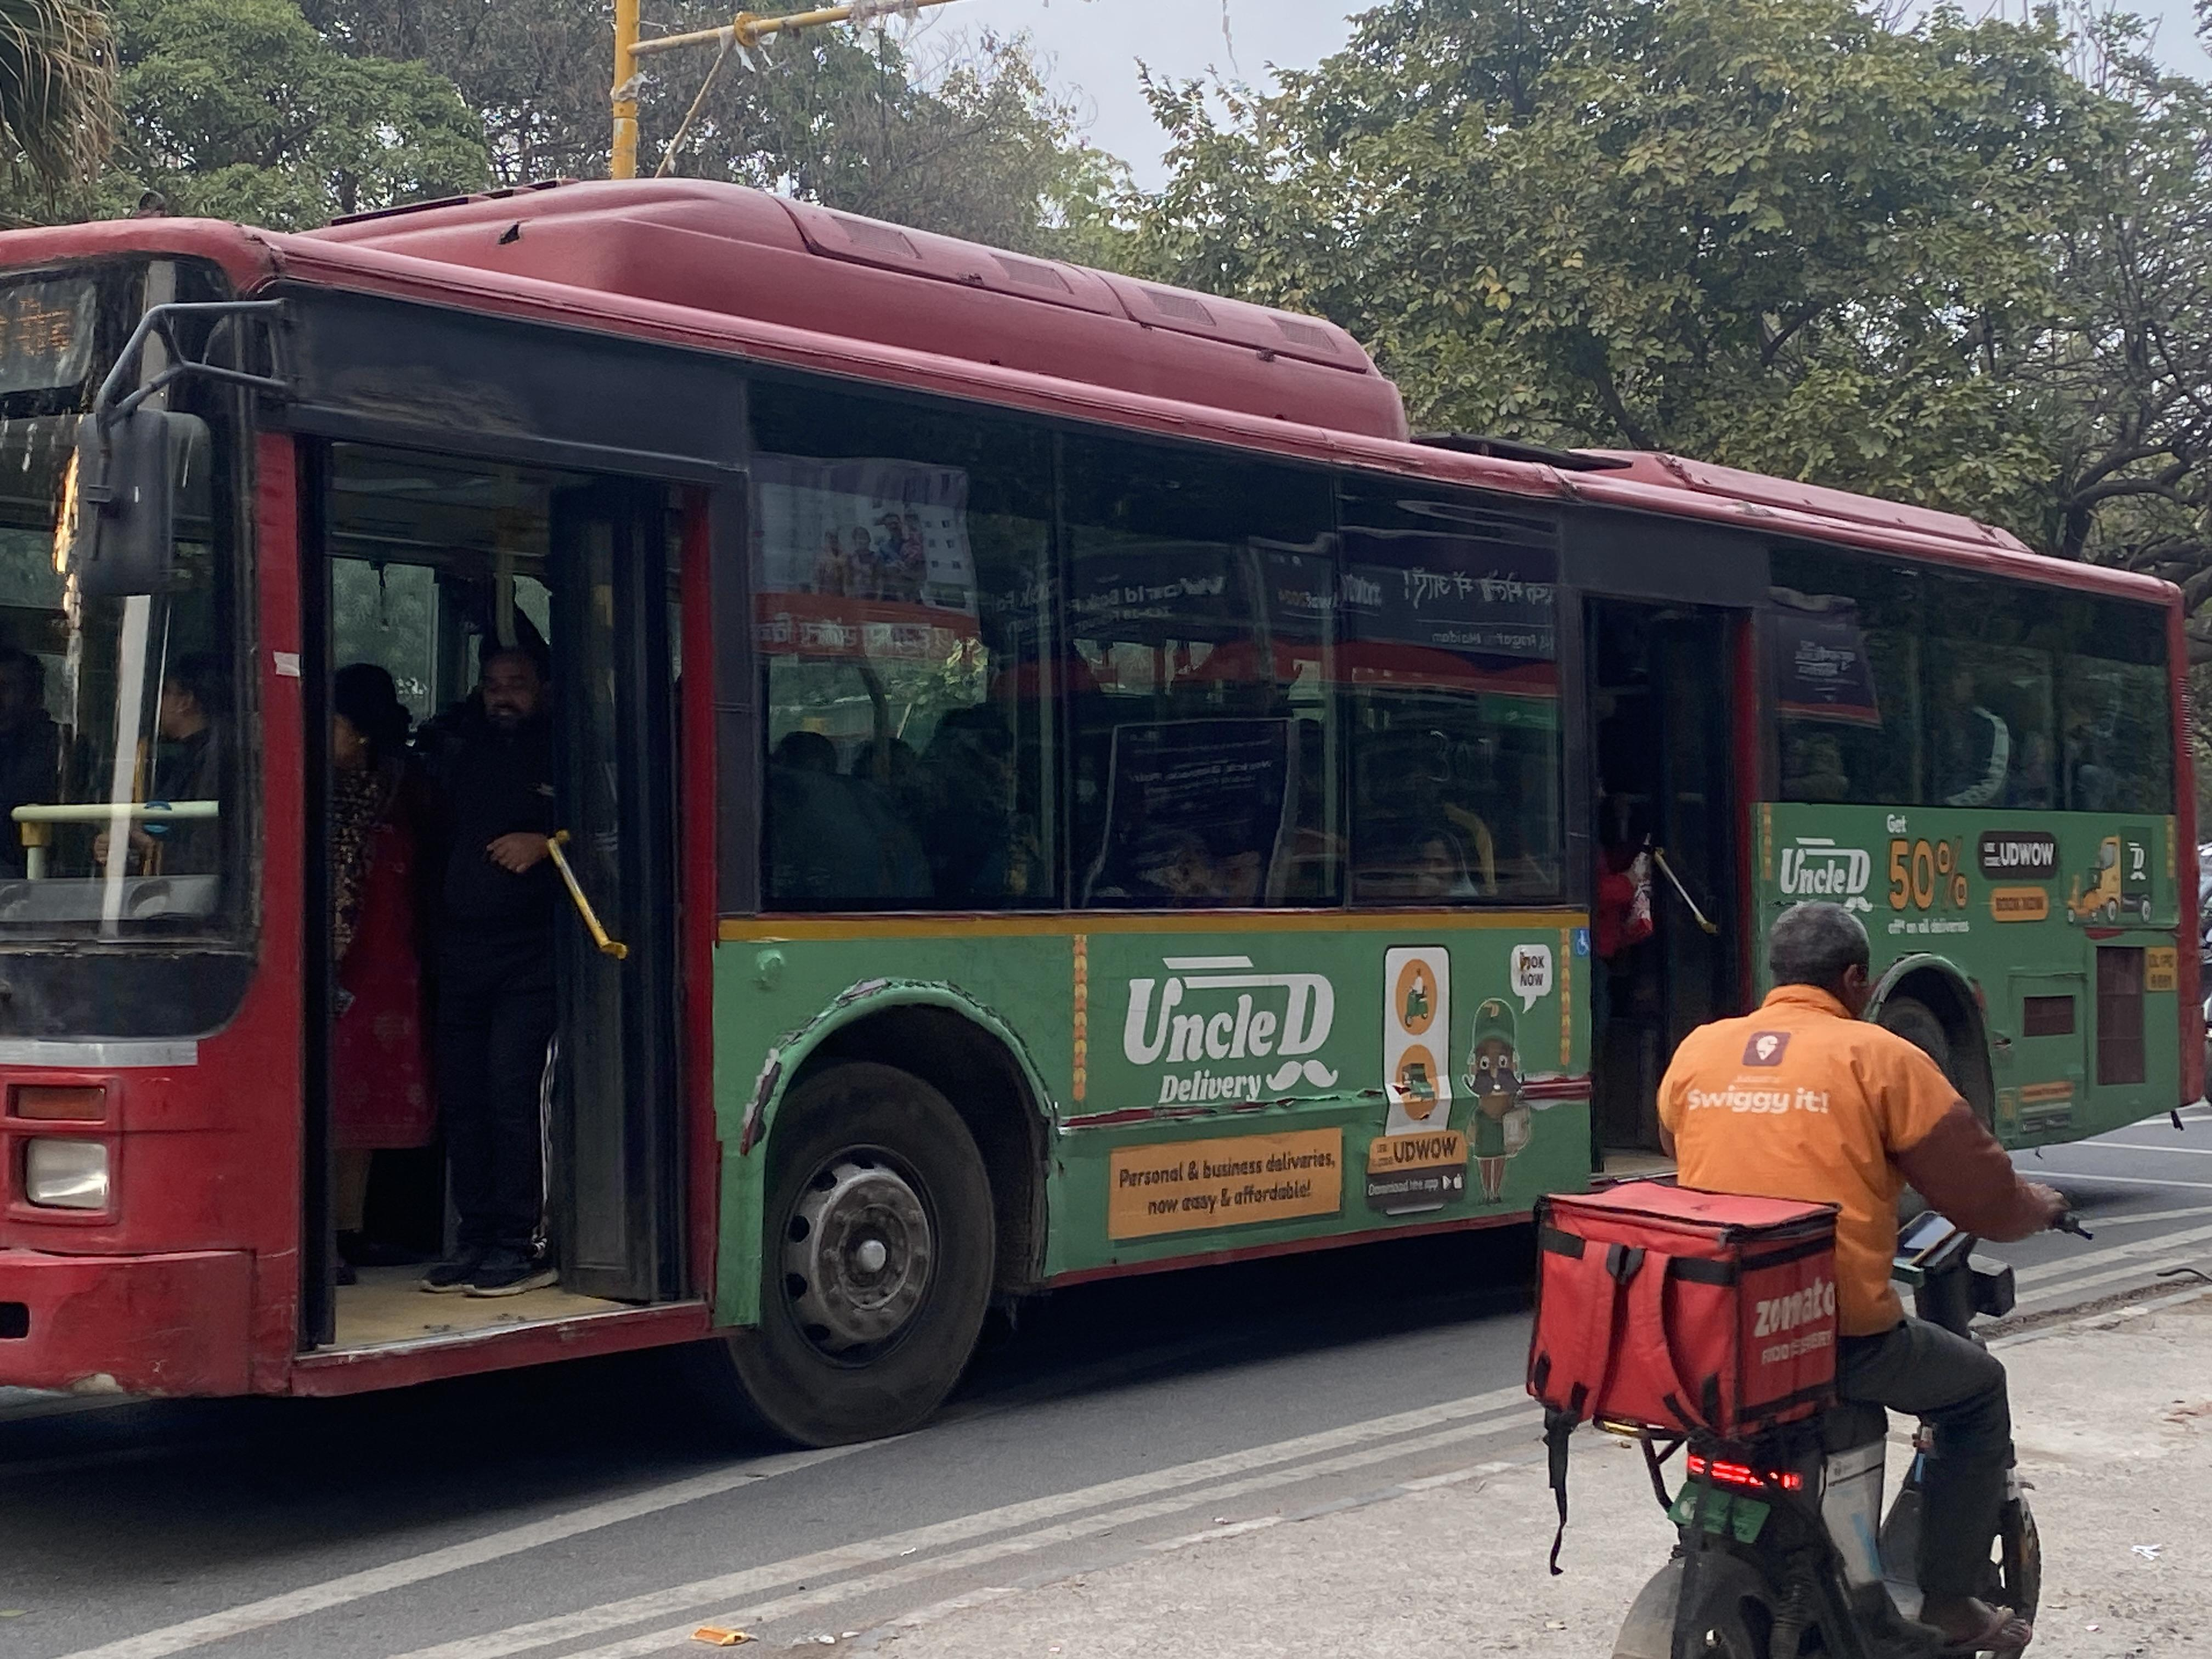Bus: (0, 214, 2184, 1356)
Display Board: (0, 242, 273, 401)
